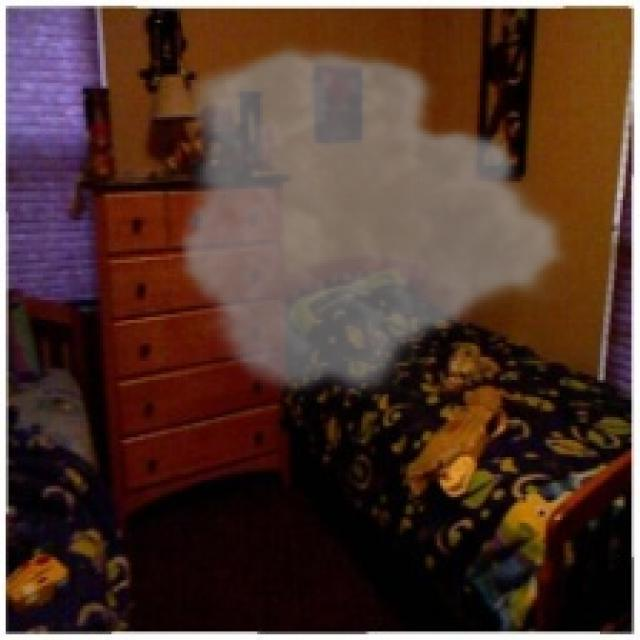Smoke: (175, 40, 574, 403)
